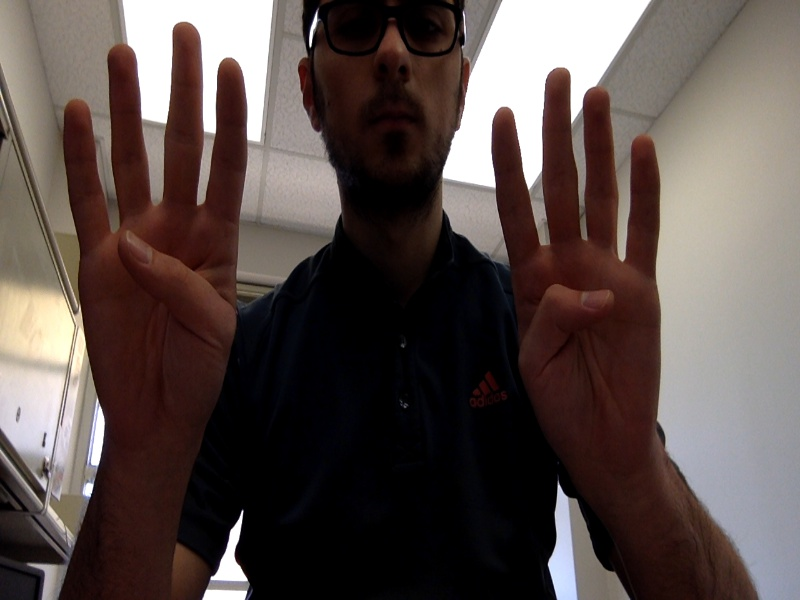4-hand: (63, 22, 247, 415), (492, 68, 661, 473)
